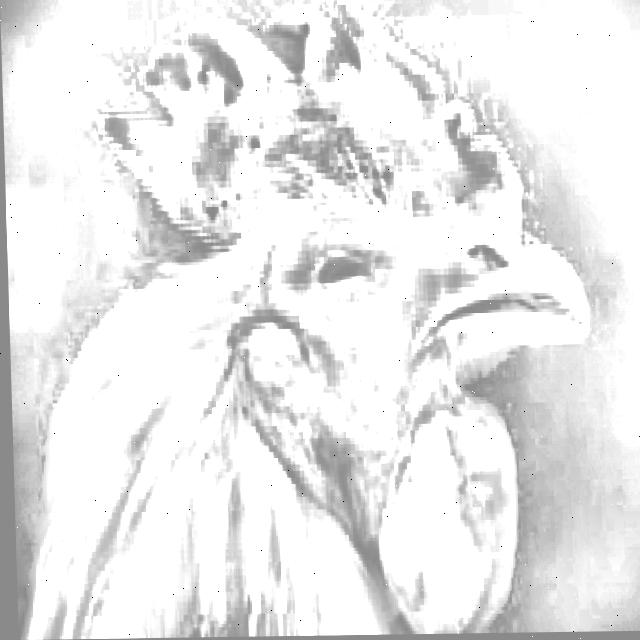Fowl cholera: (73, 0, 608, 639)
